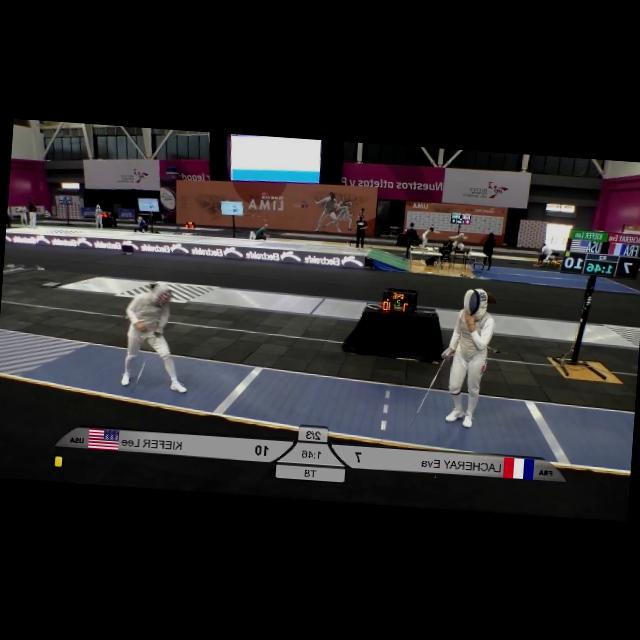blade: (406, 350, 453, 432), (128, 330, 161, 398)
